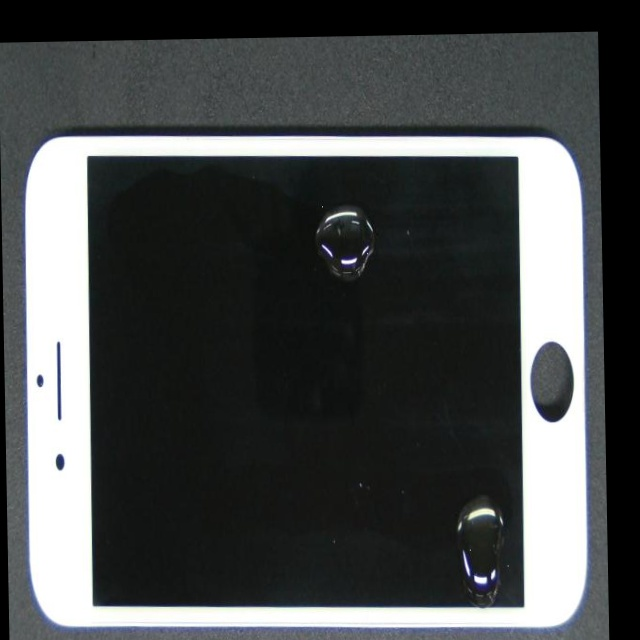oil: (226, 246, 610, 640), (180, 113, 502, 306)
